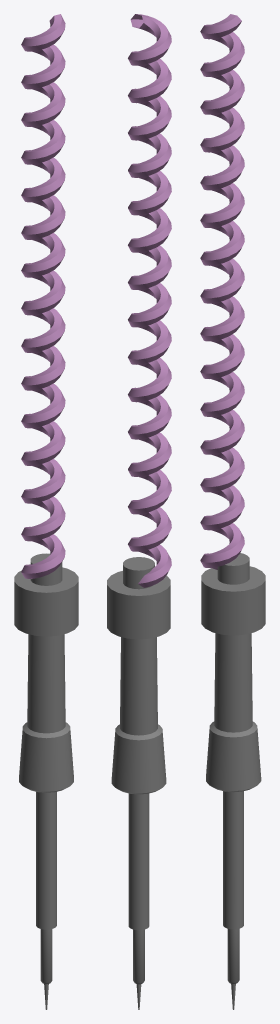
The model's file is Soldering Pen.fbx.
The picture shows the model from 3 angles, left to right: view 1: azimuth 30°, elevation 25°; view 2: azimuth 150°, elevation 25°; view 3: azimuth 330°, elevation 25°; orthographic projection.
Visible parts, largest first — view 1: Soldering Pen; view 2: Soldering Pen; view 3: Soldering Pen.
Boxes of the visible parts, bbox=[...] form: Soldering Pen: bbox=[14, 14, 78, 1009]; Soldering Pen: bbox=[107, 14, 171, 1009]; Soldering Pen: bbox=[200, 14, 265, 1009].
Size of the model in its own units: 3.77 by 3.72 by 63.72.
